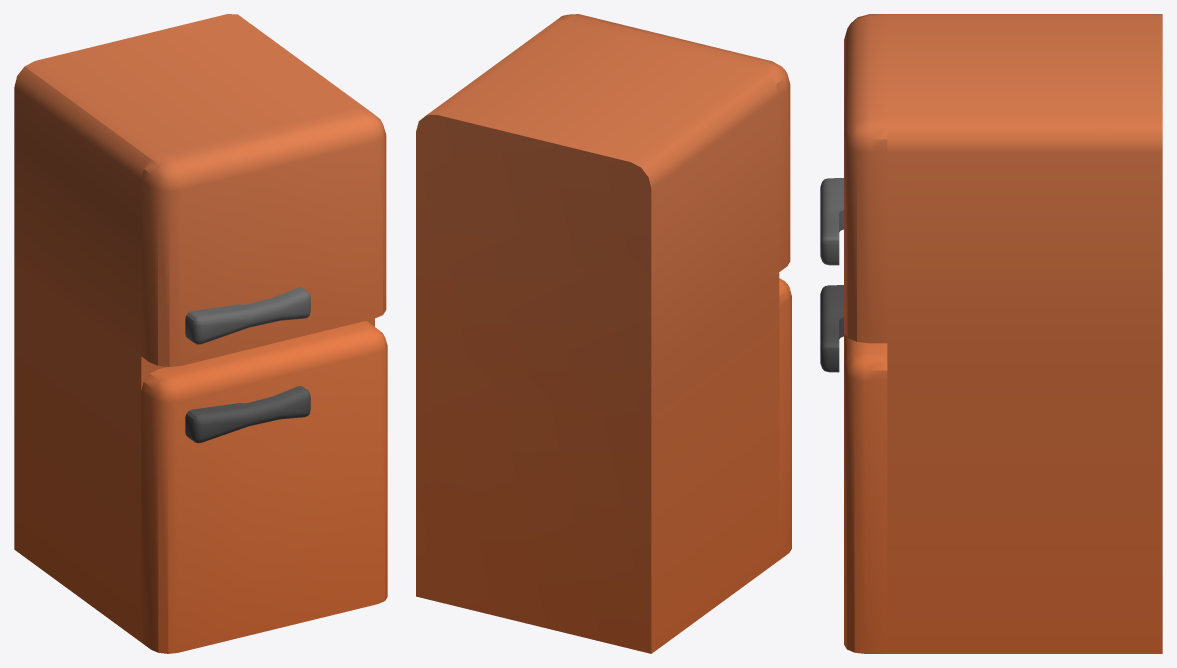
Rendered from Freezer.fbx.
3 renders of one model, left to right at view 1: azimuth 30°, elevation 25°; view 2: azimuth 150°, elevation 25°; view 3: azimuth 270°, elevation 25°, orthographic. The views are drawn at different scales.
Visible parts, largest first — view 1: freezer; view 2: freezer; view 3: freezer.
Boxes of the visible parts, x1=… form: freezer: x1=14, y1=14, x2=387, y2=653; freezer: x1=416, y1=14, x2=791, y2=653; freezer: x1=820, y1=14, x2=1162, y2=653.
Bounding box in the file's own units: 1.13 × 2.24 × 1.32.
